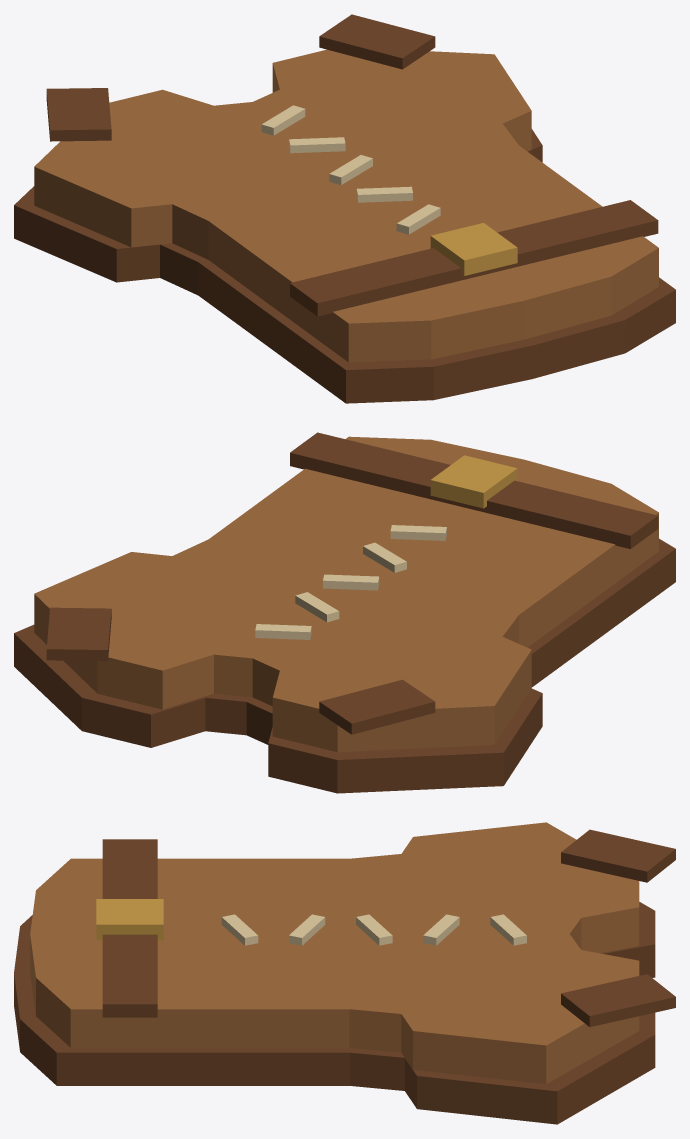
File: prop-item-leather-armor.glb
The picture shows the model from 3 angles, top to bottom: view 1: azimuth 30°, elevation 25°; view 2: azimuth 150°, elevation 25°; view 3: azimuth 270°, elevation 25°; orthographic projection.
Parts seen in each view (by area): view 1: ItemLeatherArmor; view 2: ItemLeatherArmor; view 3: ItemLeatherArmor.
Boxes of the visible parts, x1=… form: ItemLeatherArmor: x1=14, y1=14, x2=675, y2=403; ItemLeatherArmor: x1=14, y1=432, x2=675, y2=793; ItemLeatherArmor: x1=14, y1=822, x2=675, y2=1124.
Size of the model in its own units: 0.46 by 0.085 by 0.5421.
